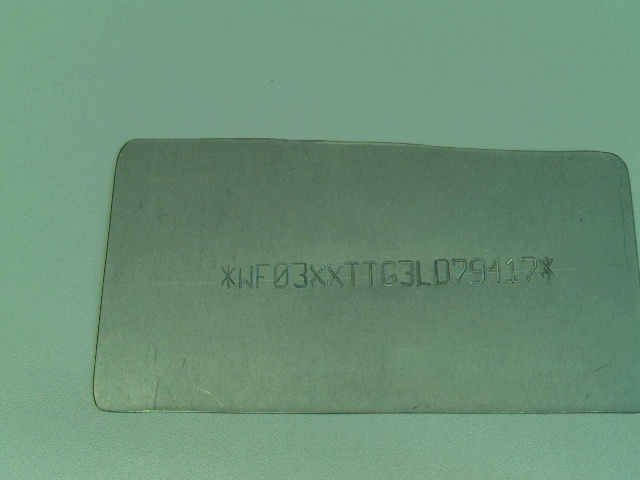0: (272, 262, 290, 290)
1: (504, 258, 520, 286)
3: (397, 258, 416, 286), (291, 261, 309, 289)
4: (487, 257, 503, 285)
7: (519, 255, 540, 285), (452, 256, 469, 286)
9: (469, 257, 487, 286)
d: (432, 258, 453, 288)
f: (255, 262, 269, 289)
g: (379, 258, 399, 289)
l: (415, 257, 433, 286)
t: (361, 259, 380, 289), (344, 259, 361, 288)
w: (236, 263, 254, 289)
x: (308, 261, 327, 288), (326, 261, 344, 288)
